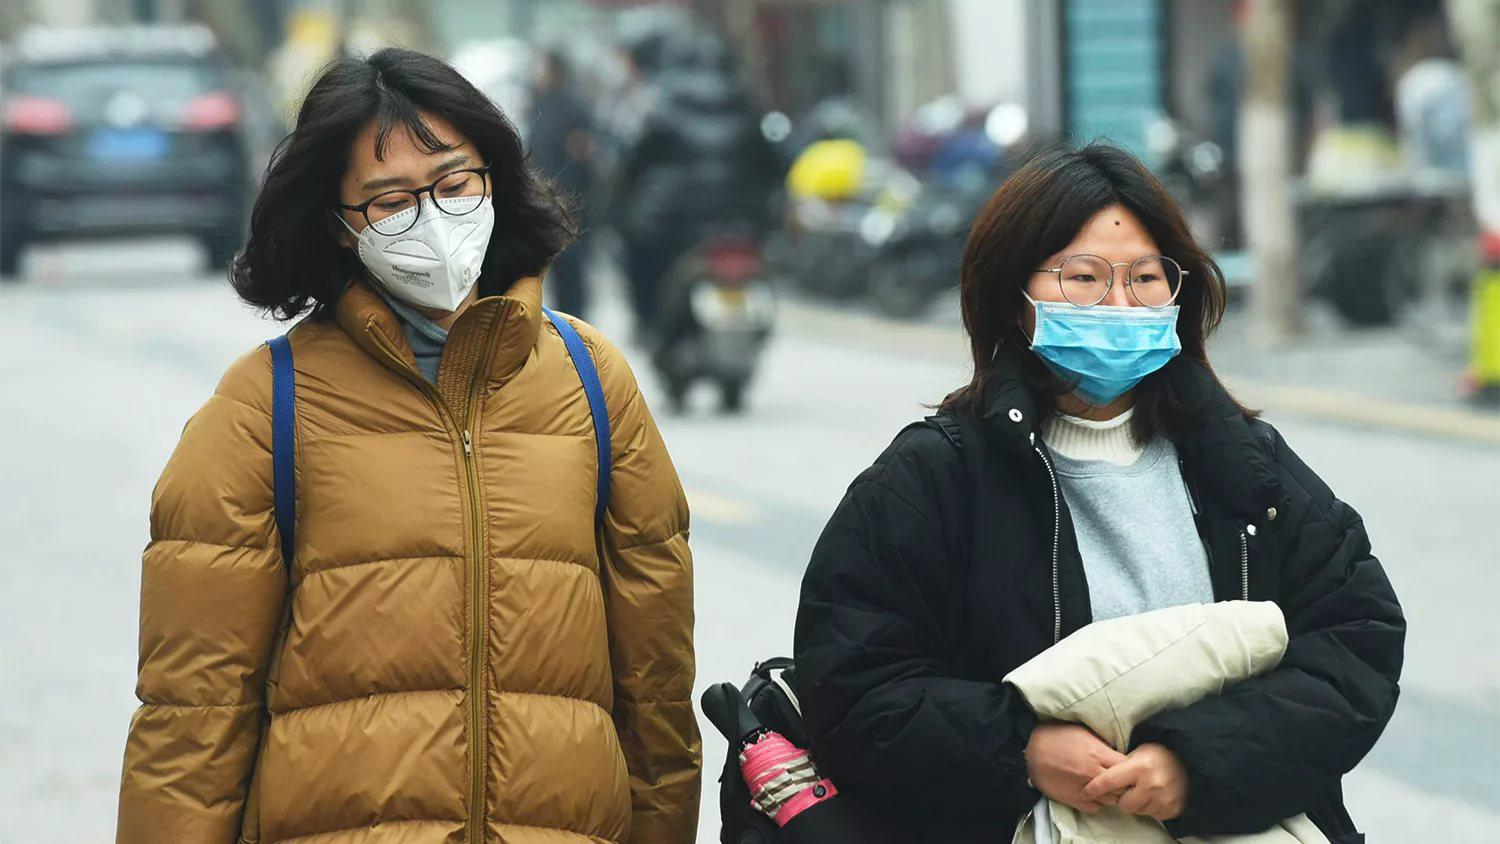mask: (328, 81, 495, 318), (1023, 197, 1181, 401)
